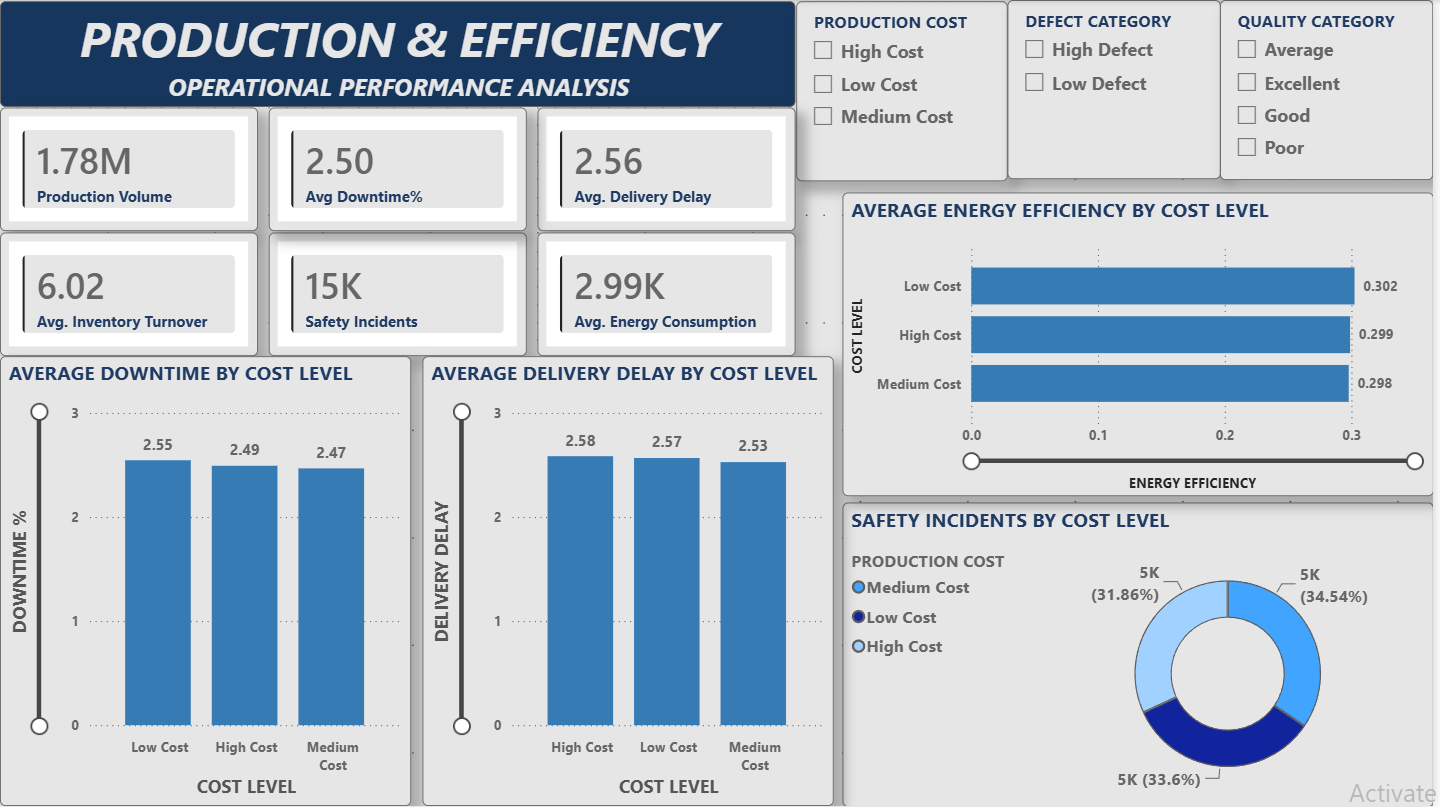

The page's visual inventory and layout, read from the dashboard file:
{"tool":"powerbi","page":{"name":"Production & Efficiency","canvas":[1280,720],"ordinal":1},"visuals":[{"type":"textbox","title":"PRODUCTION & EFFICIENCY","box":[0,1.2,710.6,94.3],"z":0},{"type":"slicer","fields":{"Values":["ManufacturingData.ProductionCostCategory"]},"box":[710.6,1.2,188.7,160.5],"z":1},{"type":"slicer","fields":{"Values":["ManufacturingData.DefectCategory"]},"box":[899.2,0,190,160],"z":2},{"type":"slicer","fields":{"Values":["ManufacturingData.QualityCategory"]},"box":[1089.1,0,190,160.5],"z":3},{"type":"cardVisual","fields":{"Data":["Sum(ManufacturingData.ProductionVolume)"]},"box":[0,96,230,110],"z":4},{"type":"cardVisual","fields":{"Data":["Avg(ManufacturingData.DeliveryDelay)"]},"box":[480.2,95.6,230,110],"z":6},{"type":"cardVisual","fields":{"Data":["Avg(ManufacturingData.InventoryTurnover)"]},"box":[0,208,230,110],"z":7},{"type":"cardVisual","fields":{"Data":["Sum(ManufacturingData.SafetyIncidents)"]},"box":[240,208,230,110],"z":8},{"type":"cardVisual","fields":{"Data":["Avg(ManufacturingData.DowntimePercentage)"]},"box":[240,96,230,110],"z":9},{"type":"cardVisual","fields":{"Data":["Avg(ManufacturingData.EnergyConsumption)"]},"box":[480,208,230,110],"z":10},{"type":"clusteredColumnChart","title":"AVERAGE DOWNTIME BY COST LEVEL","fields":{"Category":["ManufacturingData.ProductionCostCategory"],"Y":["Avg(ManufacturingData.DowntimePercentage)"]},"box":[0,318.5,367.5,401.8],"z":11},{"type":"donutChart","title":"SAFETY INCIDENTS BY COST LEVEL","fields":{"Category":["ManufacturingData.ProductionCostCategory"],"Y":["Sum(ManufacturingData.SafetyIncidents)"]},"box":[752.2,448.4,528,272],"z":12},{"type":"clusteredColumnChart","title":"AVERAGE DELIVERY DELAY BY COST LEVEL","fields":{"Category":["ManufacturingData.ProductionCostCategory"],"Y":["Avg(ManufacturingData.DeliveryDelay)"]},"box":[377.3,318.5,367,401.8],"z":13},{"type":"clusteredBarChart","title":"AVERAGE ENERGY EFFICIENCY BY COST LEVEL","fields":{"Y":["Avg(ManufacturingData.EnergyEfficiency)"],"Category":["ManufacturingData.ProductionCostCategory"]},"box":[752.2,171.5,528,271],"z":14}]}

Visuals, with their boxes in screenshot pixels (x1, y1, x2, y2), scaled from the page's 1280x720 canvas onto the 1440x807 screenshot:
"PRODUCTION & EFFICIENCY" textbox: (x1=0, y1=1, x2=799, y2=107)
slicer - ManufacturingData.ProductionCostCategory: (x1=799, y1=1, x2=1012, y2=181)
slicer - ManufacturingData.DefectCategory: (x1=1012, y1=0, x2=1225, y2=179)
slicer - ManufacturingData.QualityCategory: (x1=1225, y1=0, x2=1439, y2=180)
cardVisual - Sum(ManufacturingData.ProductionVolume): (x1=0, y1=108, x2=259, y2=231)
cardVisual - Avg(ManufacturingData.DeliveryDelay): (x1=540, y1=107, x2=799, y2=230)
cardVisual - Avg(ManufacturingData.InventoryTurnover): (x1=0, y1=233, x2=259, y2=356)
cardVisual - Sum(ManufacturingData.SafetyIncidents): (x1=270, y1=233, x2=529, y2=356)
cardVisual - Avg(ManufacturingData.DowntimePercentage): (x1=270, y1=108, x2=529, y2=231)
cardVisual - Avg(ManufacturingData.EnergyConsumption): (x1=540, y1=233, x2=799, y2=356)
"AVERAGE DOWNTIME BY COST LEVEL" clusteredColumnChart: (x1=0, y1=357, x2=413, y2=806)
"SAFETY INCIDENTS BY COST LEVEL" donutChart: (x1=846, y1=503, x2=1439, y2=806)
"AVERAGE DELIVERY DELAY BY COST LEVEL" clusteredColumnChart: (x1=424, y1=357, x2=837, y2=806)
"AVERAGE ENERGY EFFICIENCY BY COST LEVEL" clusteredBarChart: (x1=846, y1=192, x2=1439, y2=496)
